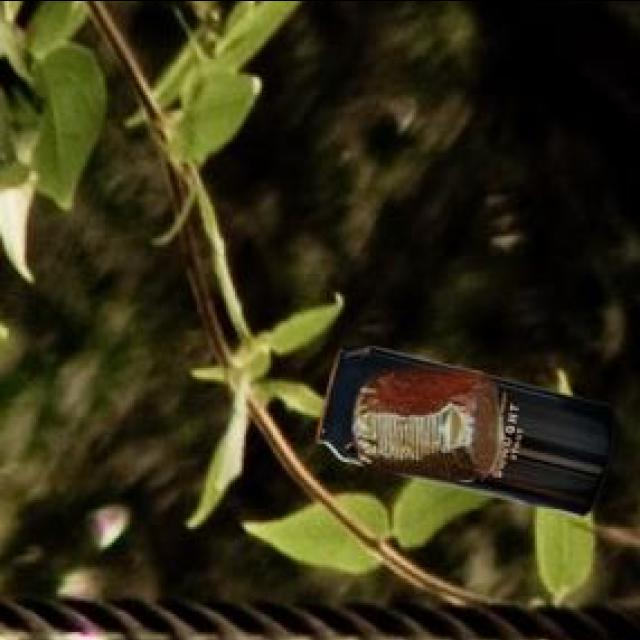logam: (321, 343, 621, 511), (357, 368, 507, 476)
